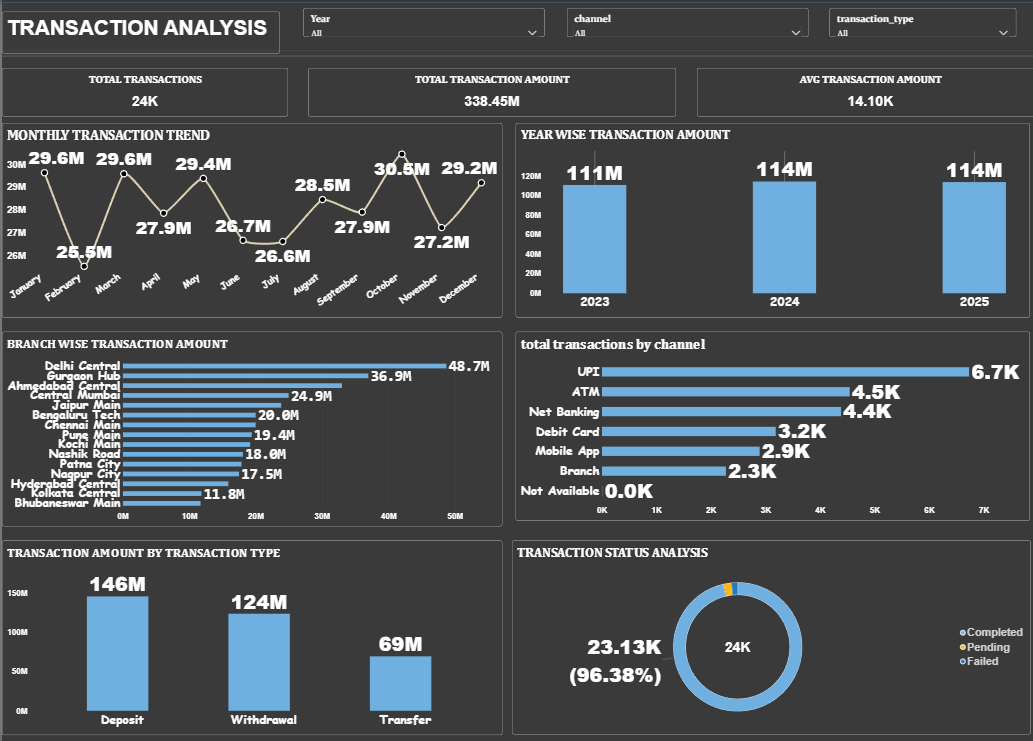

The dashboard page shown, as its layout file describes it:
{"tool":"powerbi","page":{"name":"Page 4","canvas":[1920,1080],"ordinal":6},"visuals":[{"type":"cardVisual","title":"TOTAL TRANSACTIONS","fields":{"Data":["public accounts.total transactions"]},"box":[0,0,280,280],"z":0},{"type":"cardVisual","title":"TOTAL TRANSACTION AMOUNT","fields":{"Data":["public accounts.total transaction amount"]},"box":[0,290,280,280],"z":1000},{"type":"cardVisual","title":"AVG TRANSACTION AMOUNT","fields":{"Data":["public accounts.average transaction amount"]},"box":[0,580,280,280],"z":2000},{"type":"slicer","fields":{"Values":["public transactions.transaction_date.Variation.Date Hierarchy.Year"]},"box":[0.5,856,280,210],"z":3000},{"type":"slicer","fields":{"Values":["public transactions.transaction_type"]},"box":[288,144,288,112],"z":4000},{"type":"slicer","fields":{"Values":["public transactions.channel"]},"box":[288,0,288,112],"z":5000},{"type":"lineChart","title":"MONTHLY TRANSACTION TREND","fields":{"Category":["public transactions.transaction_date.Variation.Date Hierarchy.Month"],"Y":["public accounts.total transaction amount"]},"box":[288,216,768,288],"z":6000},{"type":"clusteredColumnChart","title":"TRANSACTION AMOUNT BY TRANSACTION TYPE","fields":{"Y":["public accounts.total transaction amount"],"Category":["public transactions.transaction_type"]},"box":[192,784,768,280],"z":7000},{"type":"clusteredBarChart","fields":{"Y":["public accounts.total transactions"],"Category":["public transactions.channel"]},"box":[1056,0,720,288],"z":8000},{"type":"donutChart","title":"TRANSACTION STATUS ANALYSIS","fields":{"Category":["public transactions.transaction_status"],"Y":["CountNonNull(public transactions.transaction_id)"]},"box":[768,456,720,216],"z":9000},{"type":"clusteredBarChart","title":"BRANCH WISE TRANSACTION AMOUNT","fields":{"Category":["public branches.branch_name"],"Y":["public accounts.total transaction amount"]},"box":[1120,712,720,360],"z":10000},{"type":"clusteredColumnChart","title":"YEAR WISE TRANSACTION AMOUNT","fields":{"Category":["public transactions.transaction_date.Variation.Date Hierarchy.Year"],"Y":["public accounts.total transaction amount"]},"box":[1056,288,720,168],"z":11000}]}

Visuals, with their boxes on the page's 1920x1080 design canvas (x1, y1, x2, y2). These are canvas units, not pixel positions in the 1033x741 screenshot, which may show the page scaled, cropped or inside an application window:
"TOTAL TRANSACTIONS" cardVisual: 0:0:280:280
"TOTAL TRANSACTION AMOUNT" cardVisual: 0:290:280:570
"AVG TRANSACTION AMOUNT" cardVisual: 0:580:280:860
slicer - public transactions.transaction_date.Variation.Date Hierarchy.Year: 0:856:280:1066
slicer - public transactions.transaction_type: 288:144:576:256
slicer - public transactions.channel: 288:0:576:112
"MONTHLY TRANSACTION TREND" lineChart: 288:216:1056:504
"TRANSACTION AMOUNT BY TRANSACTION TYPE" clusteredColumnChart: 192:784:960:1064
clusteredBarChart - public accounts.total transactions x public transactions.channel: 1056:0:1776:288
"TRANSACTION STATUS ANALYSIS" donutChart: 768:456:1488:672
"BRANCH WISE TRANSACTION AMOUNT" clusteredBarChart: 1120:712:1840:1072
"YEAR WISE TRANSACTION AMOUNT" clusteredColumnChart: 1056:288:1776:456
